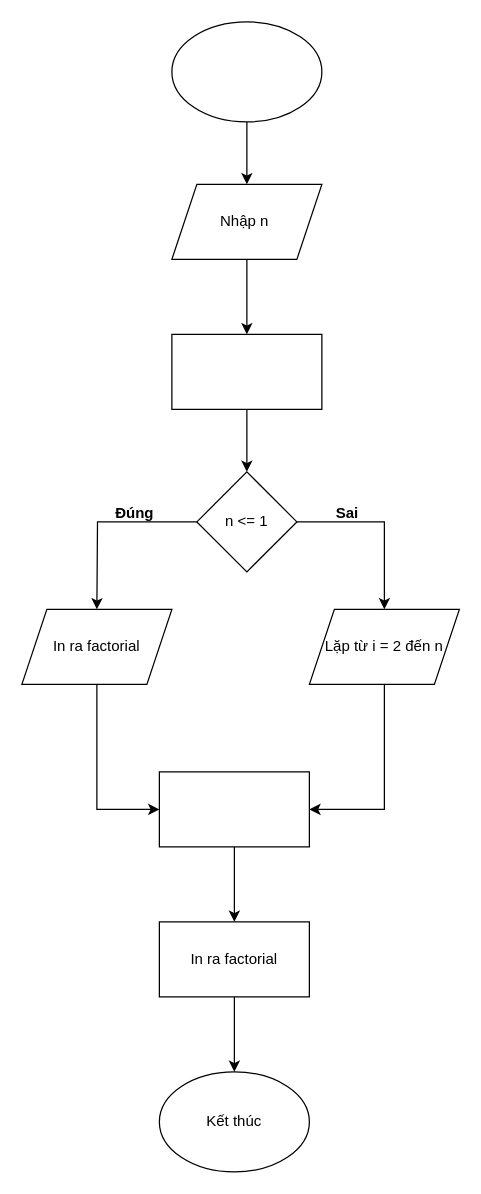
Image size: 481x1194. Some labels were removed from this diagram. The centre of each missing label's shape, as x and y in pixels:
"Bắt đầu" goes at pixel 246 71.
"factorial = factorial * i" goes at pixel 233 809.
"Khởi tạo factorial = 1" goes at pixel 246 371.
